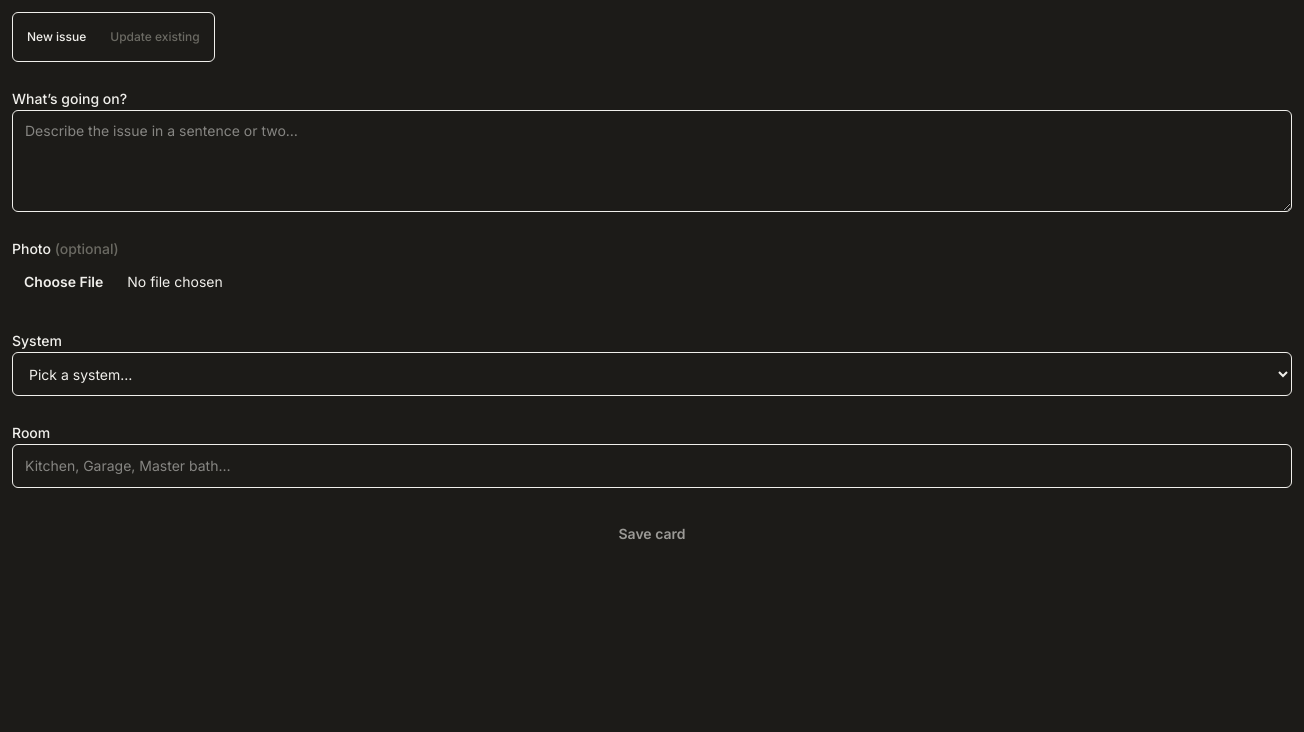
Test: <CaptureForm /> › on network error: shows a generic recover copy and keeps form state intact
Step 1. Type "Leaky faucet under the sink for two days." into the text box labelled "What’s going on?" → (652, 161), box [12,110,1292,212]
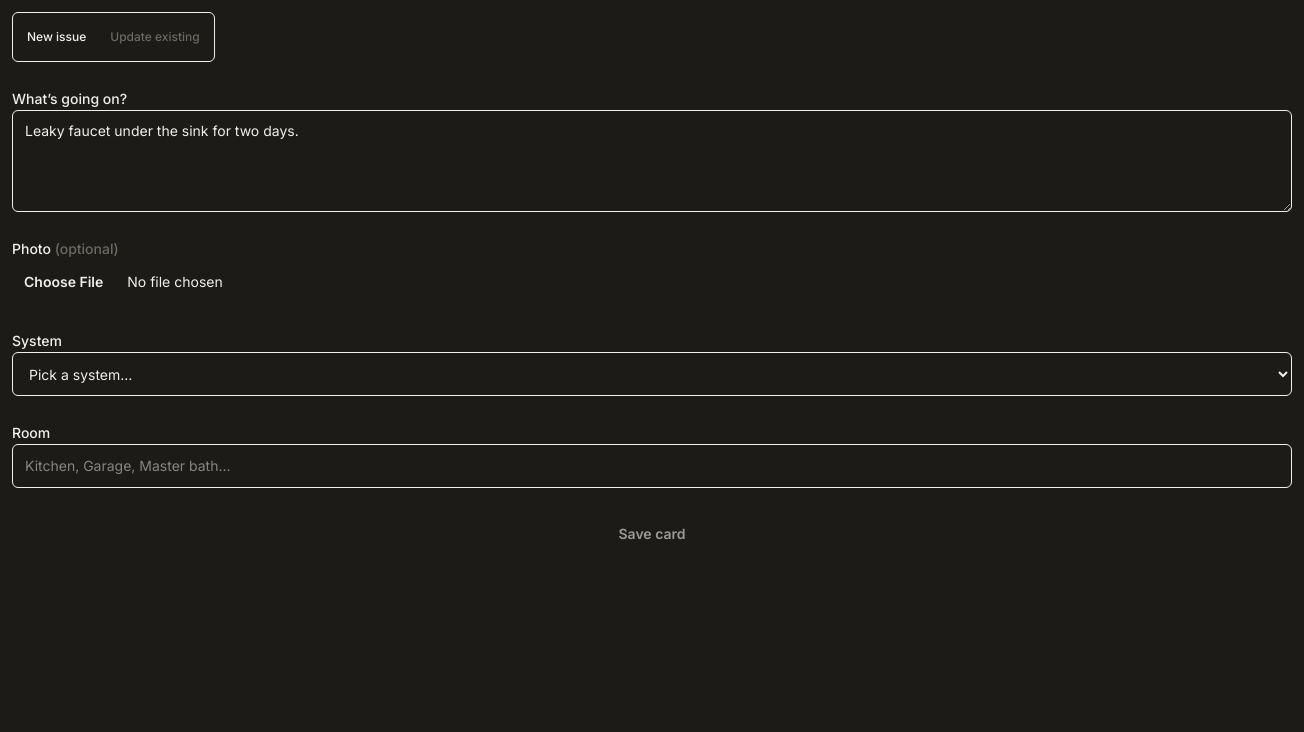
Step 2. Select "Plumbing" in the dropdown labelled "System" → (652, 374), box [12,352,1292,396]
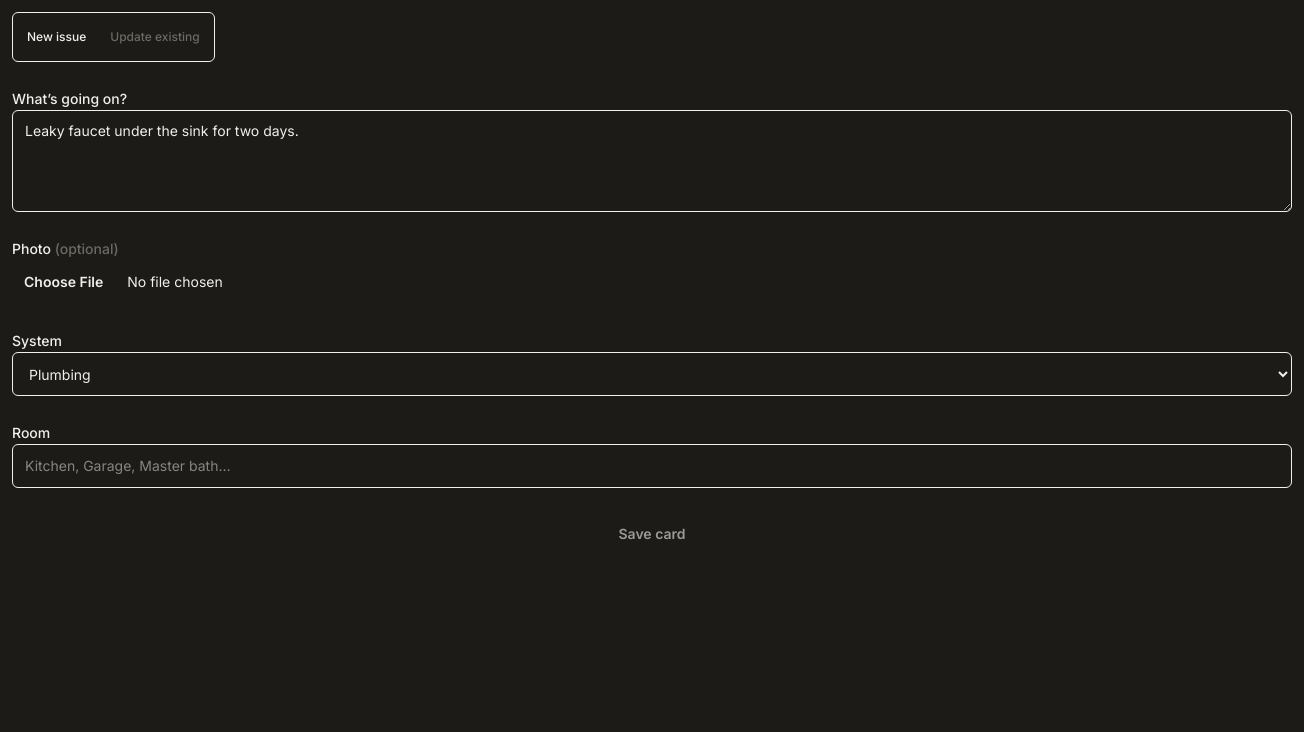
Step 3. Type "Kitchen" into the field labelled "Room" → (652, 466), box [12,444,1292,488]
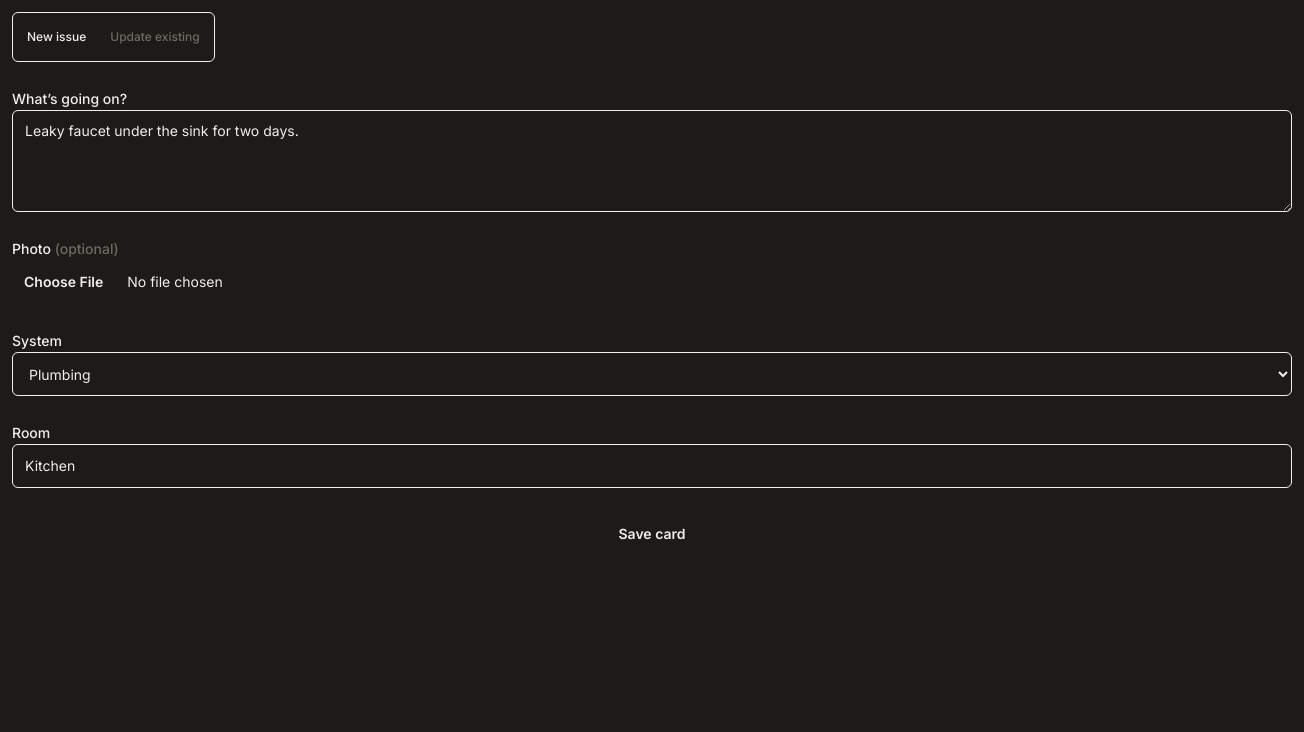
Step 4. Click the button "Save card" → (652, 534), box [12,512,1292,556]
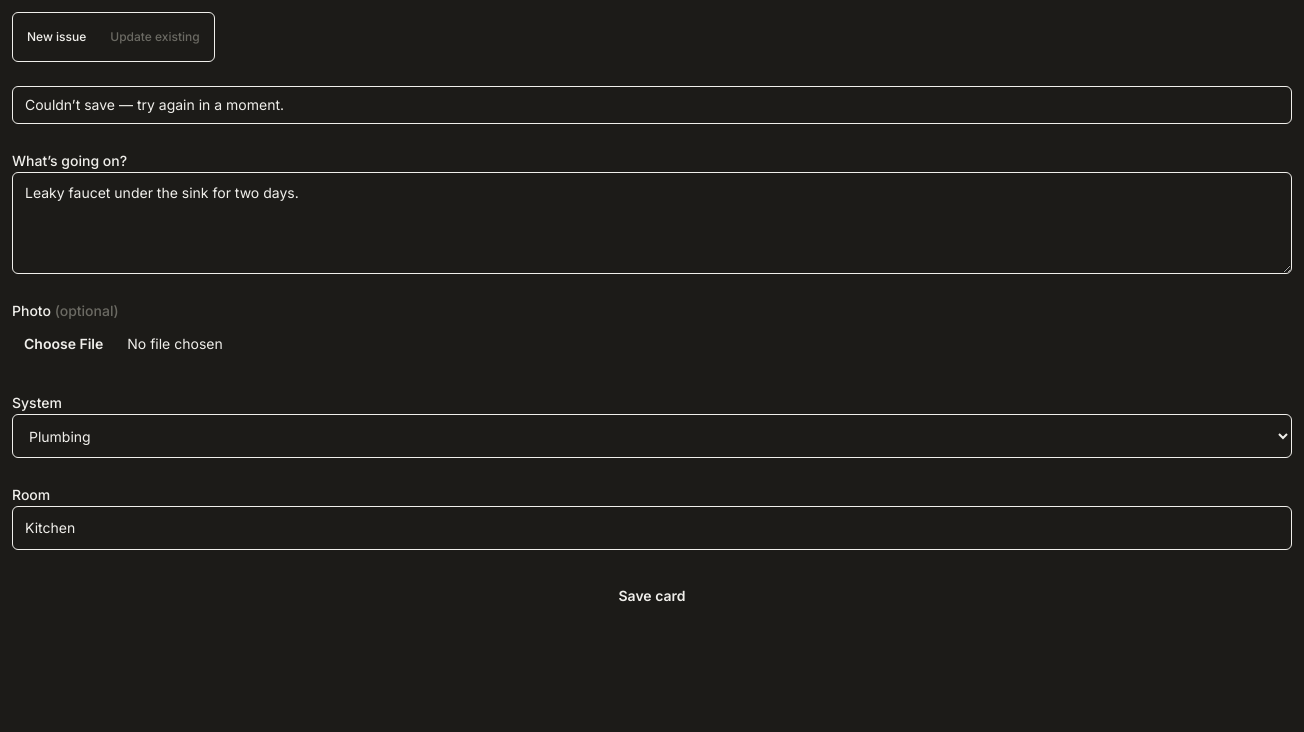
Now the text "Couldn’t save — try again in a moment." is shown, box [12,86,1292,124]
